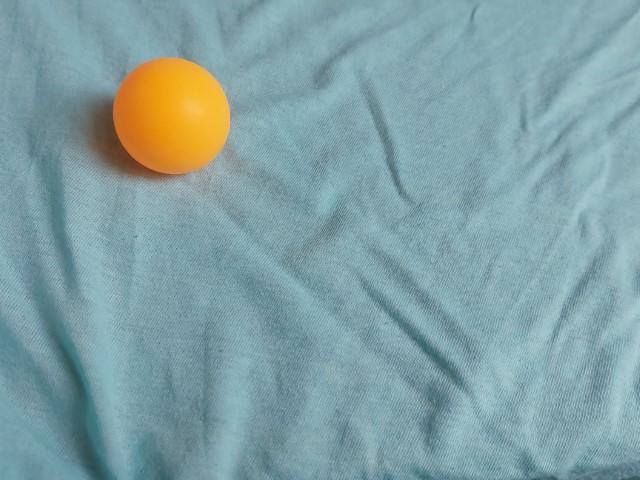oball: (105, 51, 239, 180)
